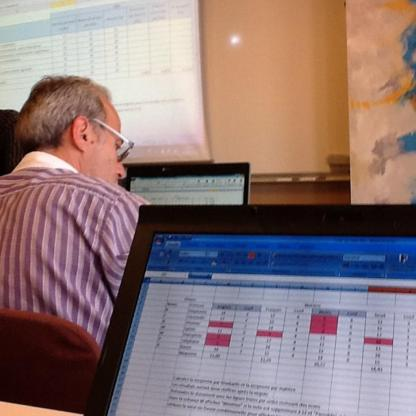board: (83, 205, 416, 416), (124, 159, 250, 205)
